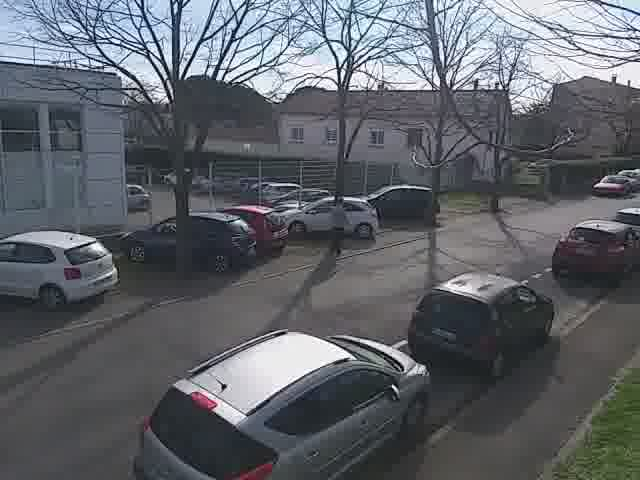persona: (322, 189, 352, 260)
